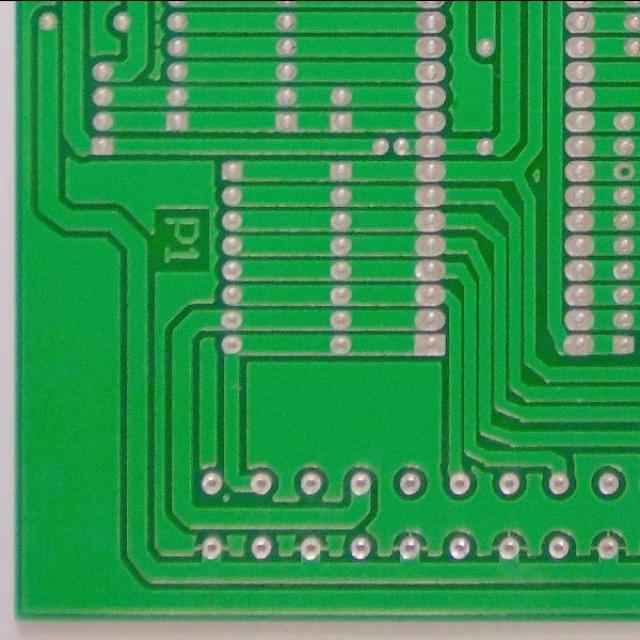Missing_Hole: (611, 159, 637, 182)
